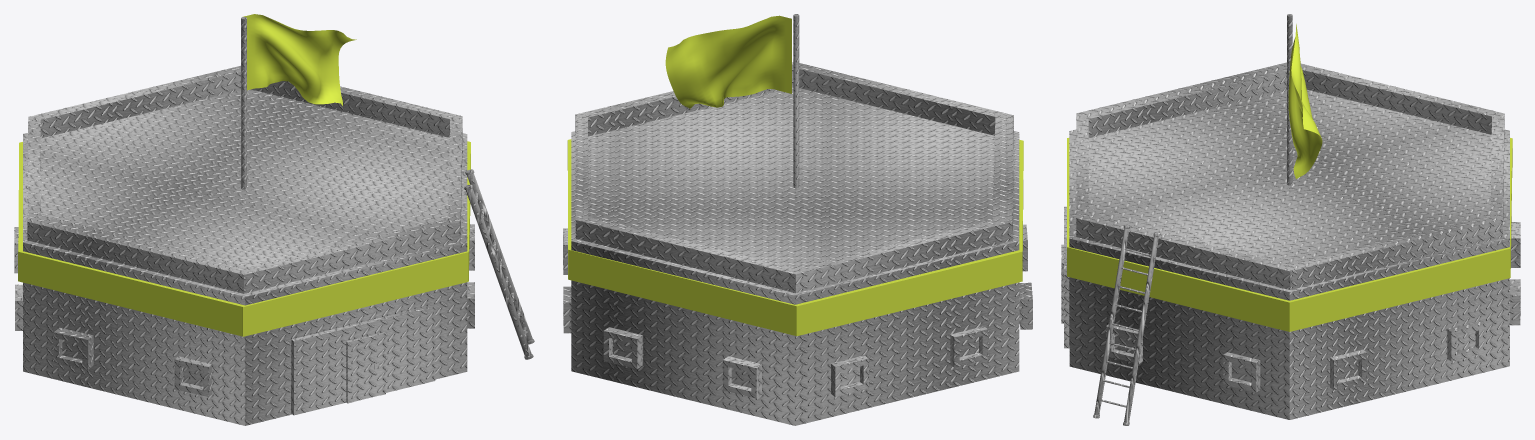
The model's file is BaseUnit.fbx.
3 views of the same model, side by side, from view 1: azimuth 30°, elevation 25°; view 2: azimuth 150°, elevation 25°; view 3: azimuth 270°, elevation 25° (orthographic).
Visible parts, largest first — view 1: Cylinder_1, Plane_1; view 2: Cylinder_1, Plane_1; view 3: Cylinder_1, Plane_1.
Boxes of the visible parts, x1=… form: Cylinder_1: x1=14, y1=17, x2=534, y2=425; Plane_1: x1=18, y1=14, x2=470, y2=336; Cylinder_1: x1=563, y1=14, x2=1032, y2=425; Plane_1: x1=567, y1=15, x2=1023, y2=335; Cylinder_1: x1=1061, y1=14, x2=1520, y2=425; Plane_1: x1=1067, y1=24, x2=1512, y2=331.
Size of the model in its own units: 67.08 by 44.74 by 59.57.
Materials: 2 (2 with a texture image).
